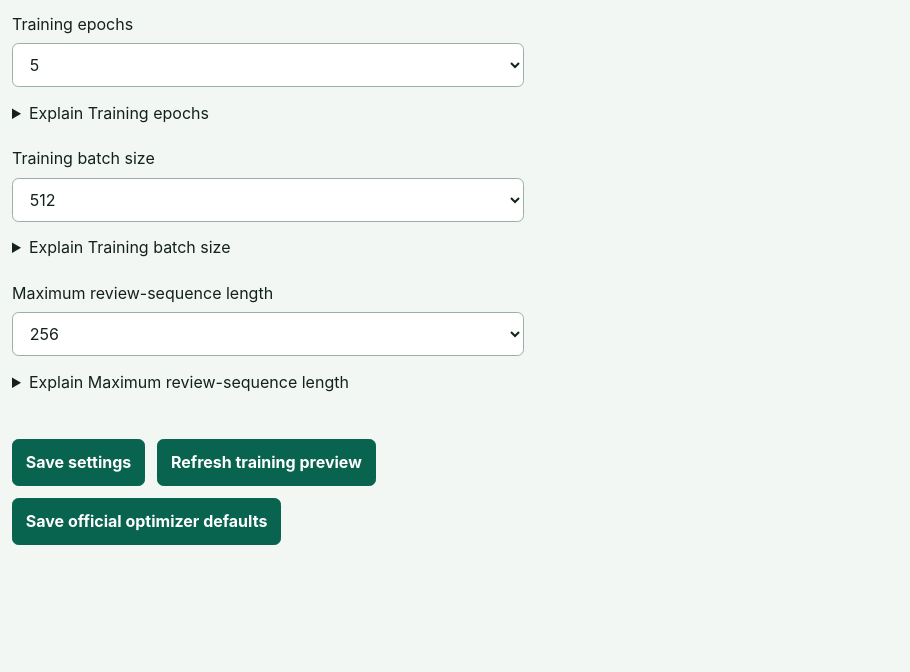
Test: OptimizerTrainingSettingsForm › discards a preflight response superseded by a newer request
Step 1. Click the button "Refresh training preview" → (266, 462), box [157,439,376,486]
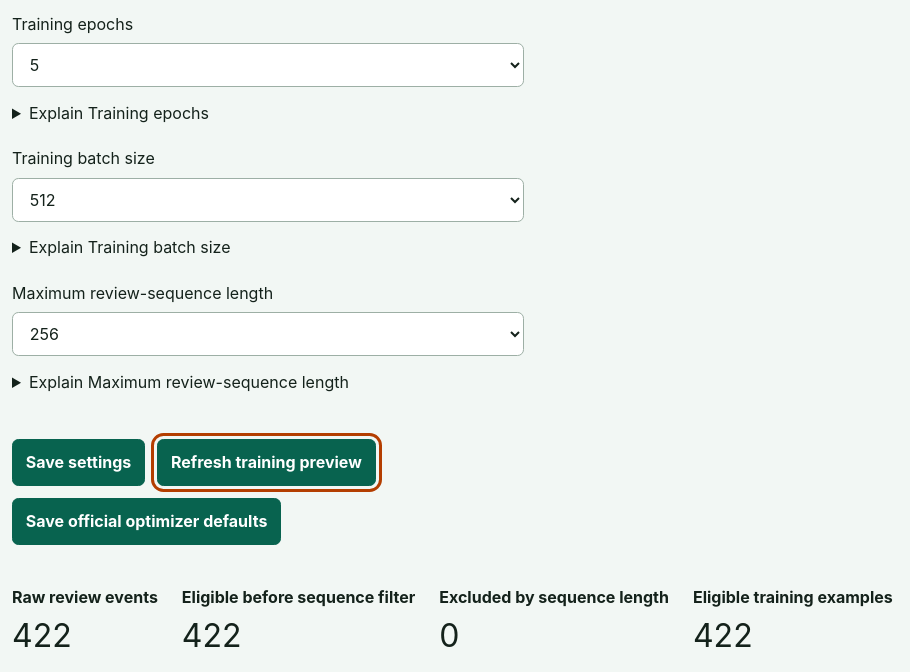
Now the text "422" below "Raw review events" is shown, box [12,616,72,655]
